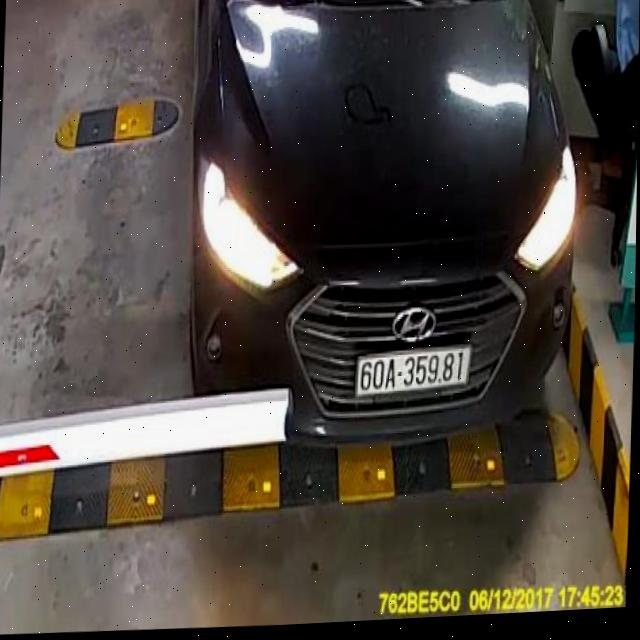car: (171, 0, 589, 462)
plate: (354, 346, 472, 401)
